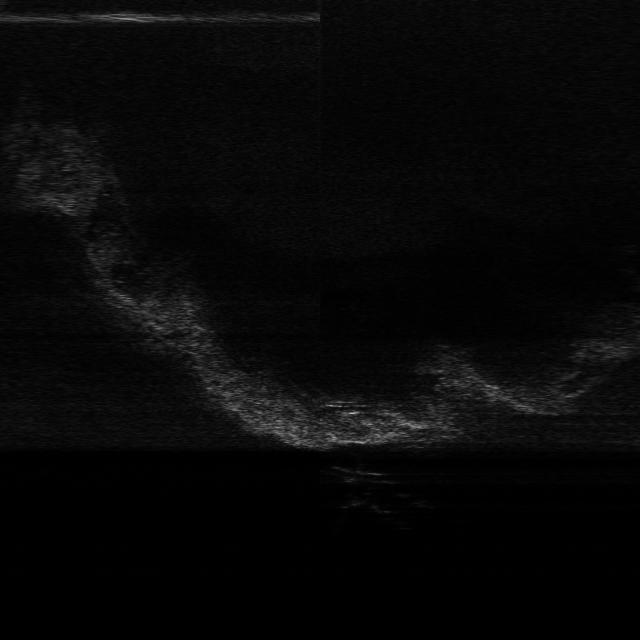plane: (323, 463, 399, 485)
